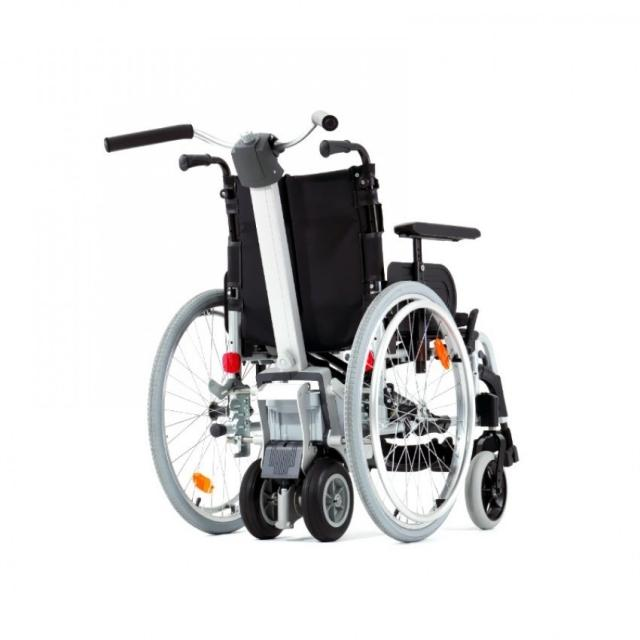wheelchair: (85, 96, 552, 575)
